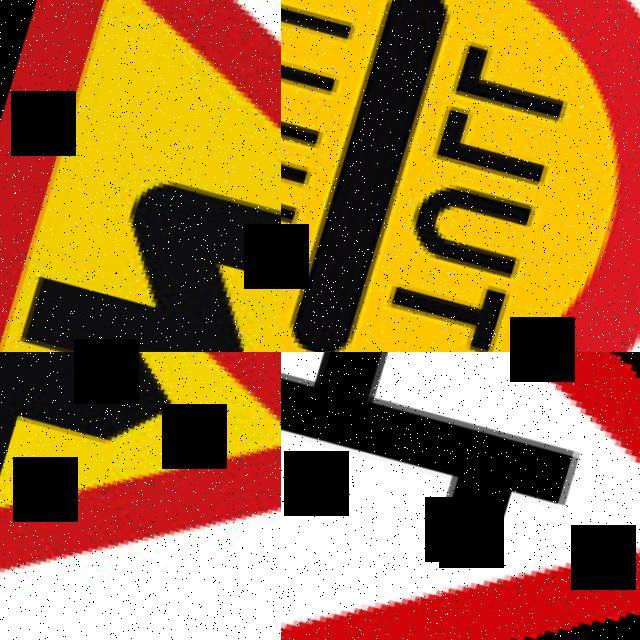117: (281, 0, 640, 352)
139: (0, 0, 281, 352)
166: (0, 352, 281, 640)
Passing without stopping prohibited: (281, 0, 640, 352)
Staggered side road junction: (281, 352, 640, 640)
